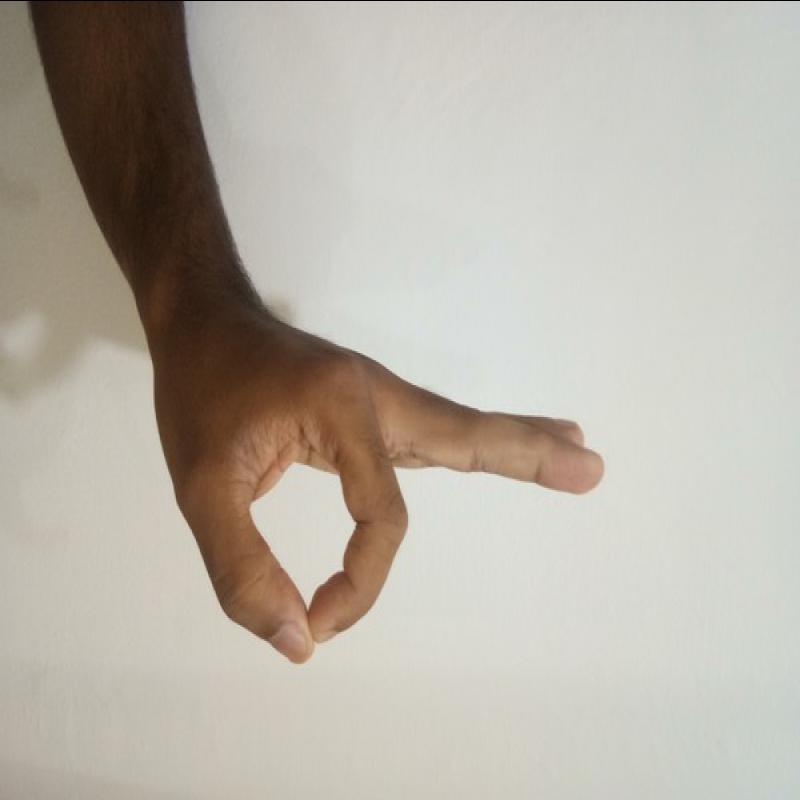Mudraakhyam: (141, 308, 621, 676)
